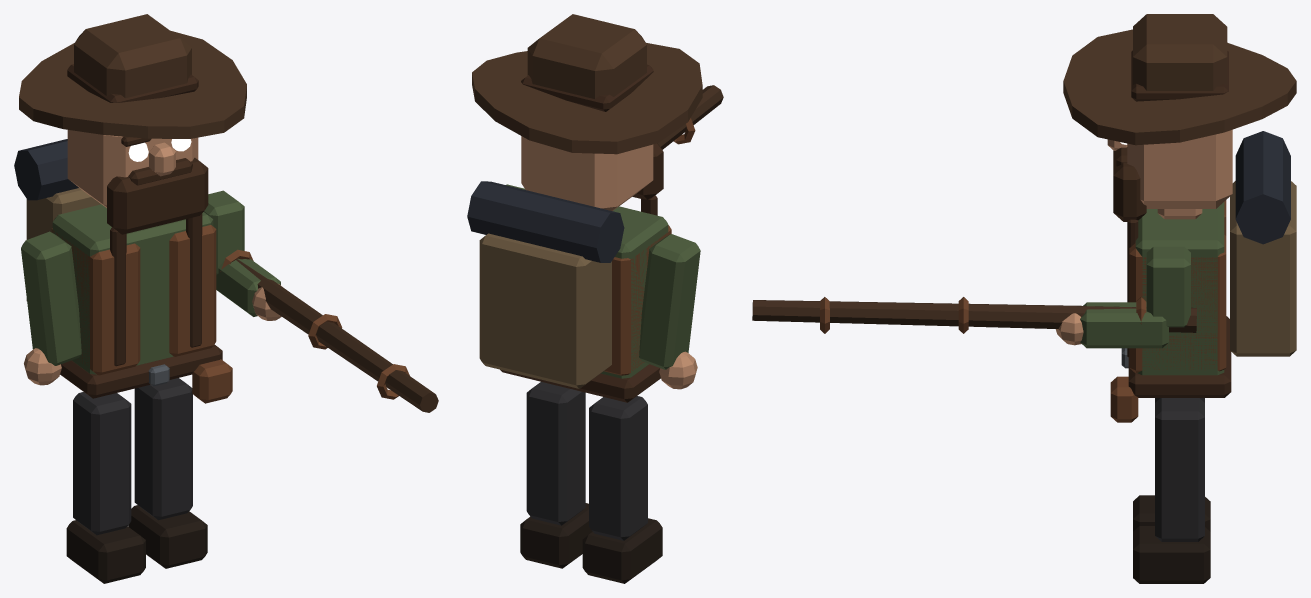
The model's file is hunter_swamp.glb.
3 renders of one model, left to right at view 1: azimuth 30°, elevation 25°; view 2: azimuth 150°, elevation 25°; view 3: azimuth 270°, elevation 25°, orthographic.
Parts seen in each view (by area): view 1: Hunter, Arm; view 2: Hunter, Arm; view 3: Hunter, Arm.
Part boxes in pixels (<box>): Hunter: <box>14,14,246,583</box>; Arm: <box>204,190,438,412</box>; Hunter: <box>467,14,702,583</box>; Arm: <box>506,85,723,189</box>; Hunter: <box>1063,14,1296,583</box>; Arm: <box>752,246,1196,348</box>.
Bounding box in the file's own units: 0.442 × 1.05 × 0.9805.
